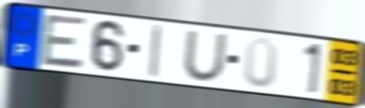0: (242, 36, 280, 90)
1: (301, 42, 323, 96)
6: (90, 19, 128, 75)
E: (39, 12, 89, 72)
I: (147, 23, 164, 80)
U: (181, 29, 230, 84)
